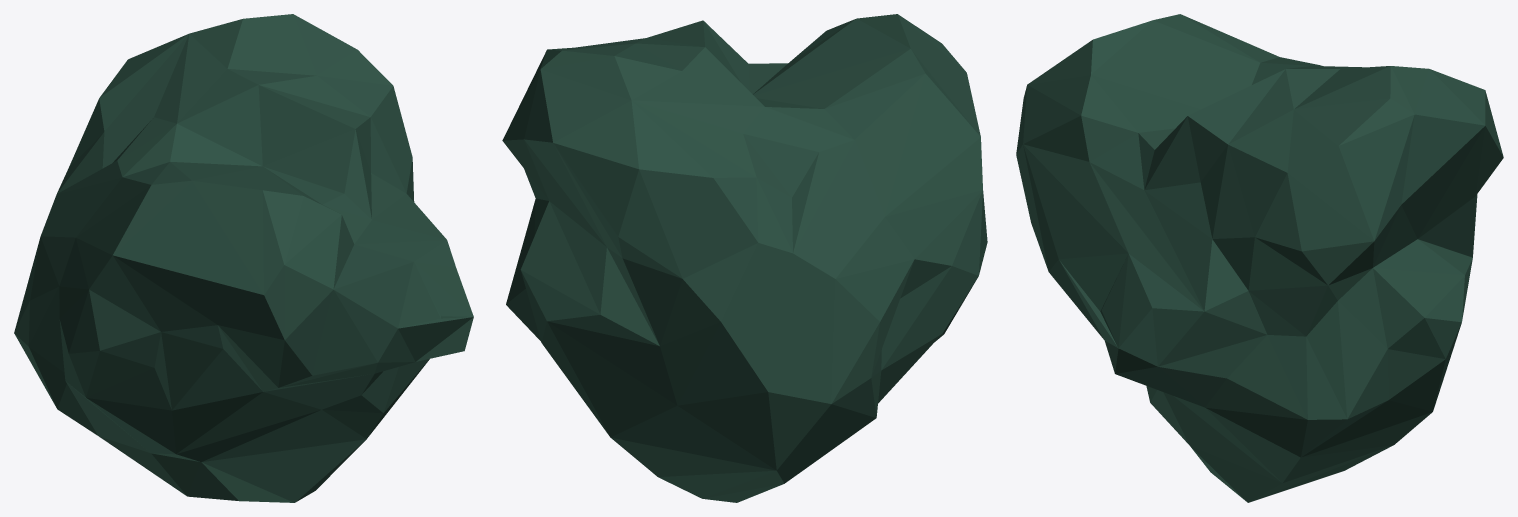
The model's file is SM_large_rock_29.fbx.
3 renders of one model, left to right at view 1: azimuth 30°, elevation 25°; view 2: azimuth 150°, elevation 25°; view 3: azimuth 270°, elevation 25°, orthographic. The views are drawn at different scales.
Visible parts, largest first — view 1: large_rock_29; view 2: large_rock_29; view 3: large_rock_29.
Part boxes in pixels (left/top/right/bottom): large_rock_29: left=14, top=14, right=473, bottom=502; large_rock_29: left=502, top=14, right=987, bottom=502; large_rock_29: left=1016, top=14, right=1503, bottom=502.
Size of the model in its own units: 54.26 by 56.26 by 57.03.
